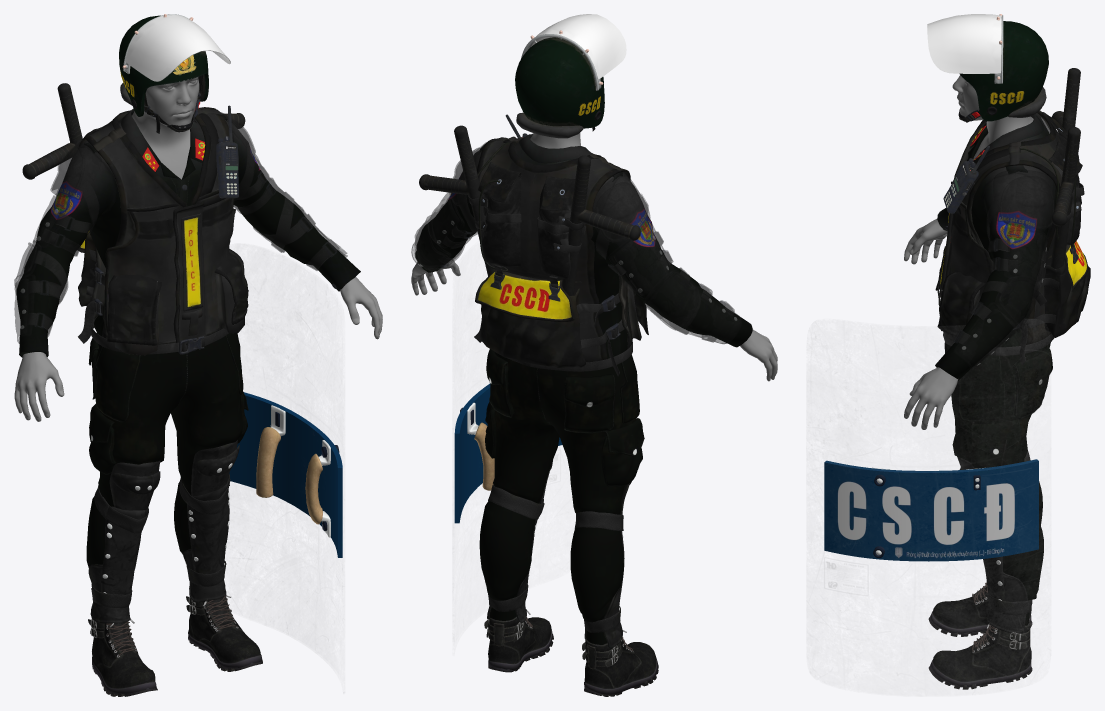
File: CSCDVN_Optimized_webp.glb
3 views of the same model, side by side, from view 1: azimuth 30°, elevation 25°; view 2: azimuth 150°, elevation 25°; view 3: azimuth 270°, elevation 25° (orthographic).
Parts seen in each view (by area): view 1: CSCDBottom, CSCDVest, CSCDShirt, CSCDHandArmor, CSCDShiled, CSCD_FaceMesh_LOD0, CSCDChoose, CSCDHelmet, CSCDBaton, CSCDRadio; view 2: CSCDBottom, CSCDVest, CSCDShirt, CSCDHandArmor, CSCDHelmet, CSCDChoose, CSCDBaton, CSCDShiled, CSCD_FaceMesh_LOD0; view 3: CSCDShiled, CSCDVest, CSCDShirt, CSCDBottom, CSCDHandArmor, CSCDHelmet, CSCDChoose, CSCD_FaceMesh_LOD0, CSCDBaton, CSCDRadio.
Boxes of the visible parts, x1=… form: CSCDBottom: x1=86, y1=333, x2=248, y2=623; CSCDVest: x1=78, y1=107, x2=248, y2=355; CSCDShirt: x1=16, y1=108, x2=360, y2=357; CSCDHandArmor: x1=14, y1=112, x2=347, y2=343; CSCDShiled: x1=227, y1=255, x2=344, y2=652; CSCD_FaceMesh_LOD0: x1=14, y1=77, x2=382, y2=421; CSCDChoose: x1=88, y1=588, x2=262, y2=696; CSCDHelmet: x1=119, y1=14, x2=230, y2=133; CSCDBaton: x1=22, y1=83, x2=245, y2=179; CSCDRadio: x1=216, y1=105, x2=238, y2=198; CSCDBottom: x1=479, y1=349, x2=644, y2=648; CSCDVest: x1=468, y1=136, x2=648, y2=376; CSCDShirt: x1=415, y1=134, x2=752, y2=358; CSCDHandArmor: x1=411, y1=141, x2=741, y2=343; CSCDHelmet: x1=515, y1=14, x2=626, y2=138; CSCDChoose: x1=484, y1=609, x2=658, y2=696; CSCDBaton: x1=419, y1=125, x2=640, y2=295; CSCDShiled: x1=453, y1=295, x2=568, y2=587; CSCD_FaceMesh_LOD0: x1=411, y1=133, x2=777, y2=381; CSCDShiled: x1=808, y1=327, x2=1050, y2=694; CSCDVest: x1=935, y1=110, x2=1090, y2=365; CSCDShirt: x1=935, y1=113, x2=1056, y2=380; CSCDBottom: x1=944, y1=342, x2=1052, y2=633; CSCDHandArmor: x1=953, y1=110, x2=1055, y2=369; CSCDHelmet: x1=927, y1=14, x2=1048, y2=122; CSCDChoose: x1=928, y1=582, x2=1032, y2=689; CSCD_FaceMesh_LOD0: x1=904, y1=75, x2=1033, y2=429; CSCDBaton: x1=1051, y1=68, x2=1080, y2=268; CSCDRadio: x1=943, y1=145, x2=989, y2=213.
Bounding box in the file's own units: 1.05 × 1.81 × 0.7312.
Materials: 16 (15 with a texture image).
